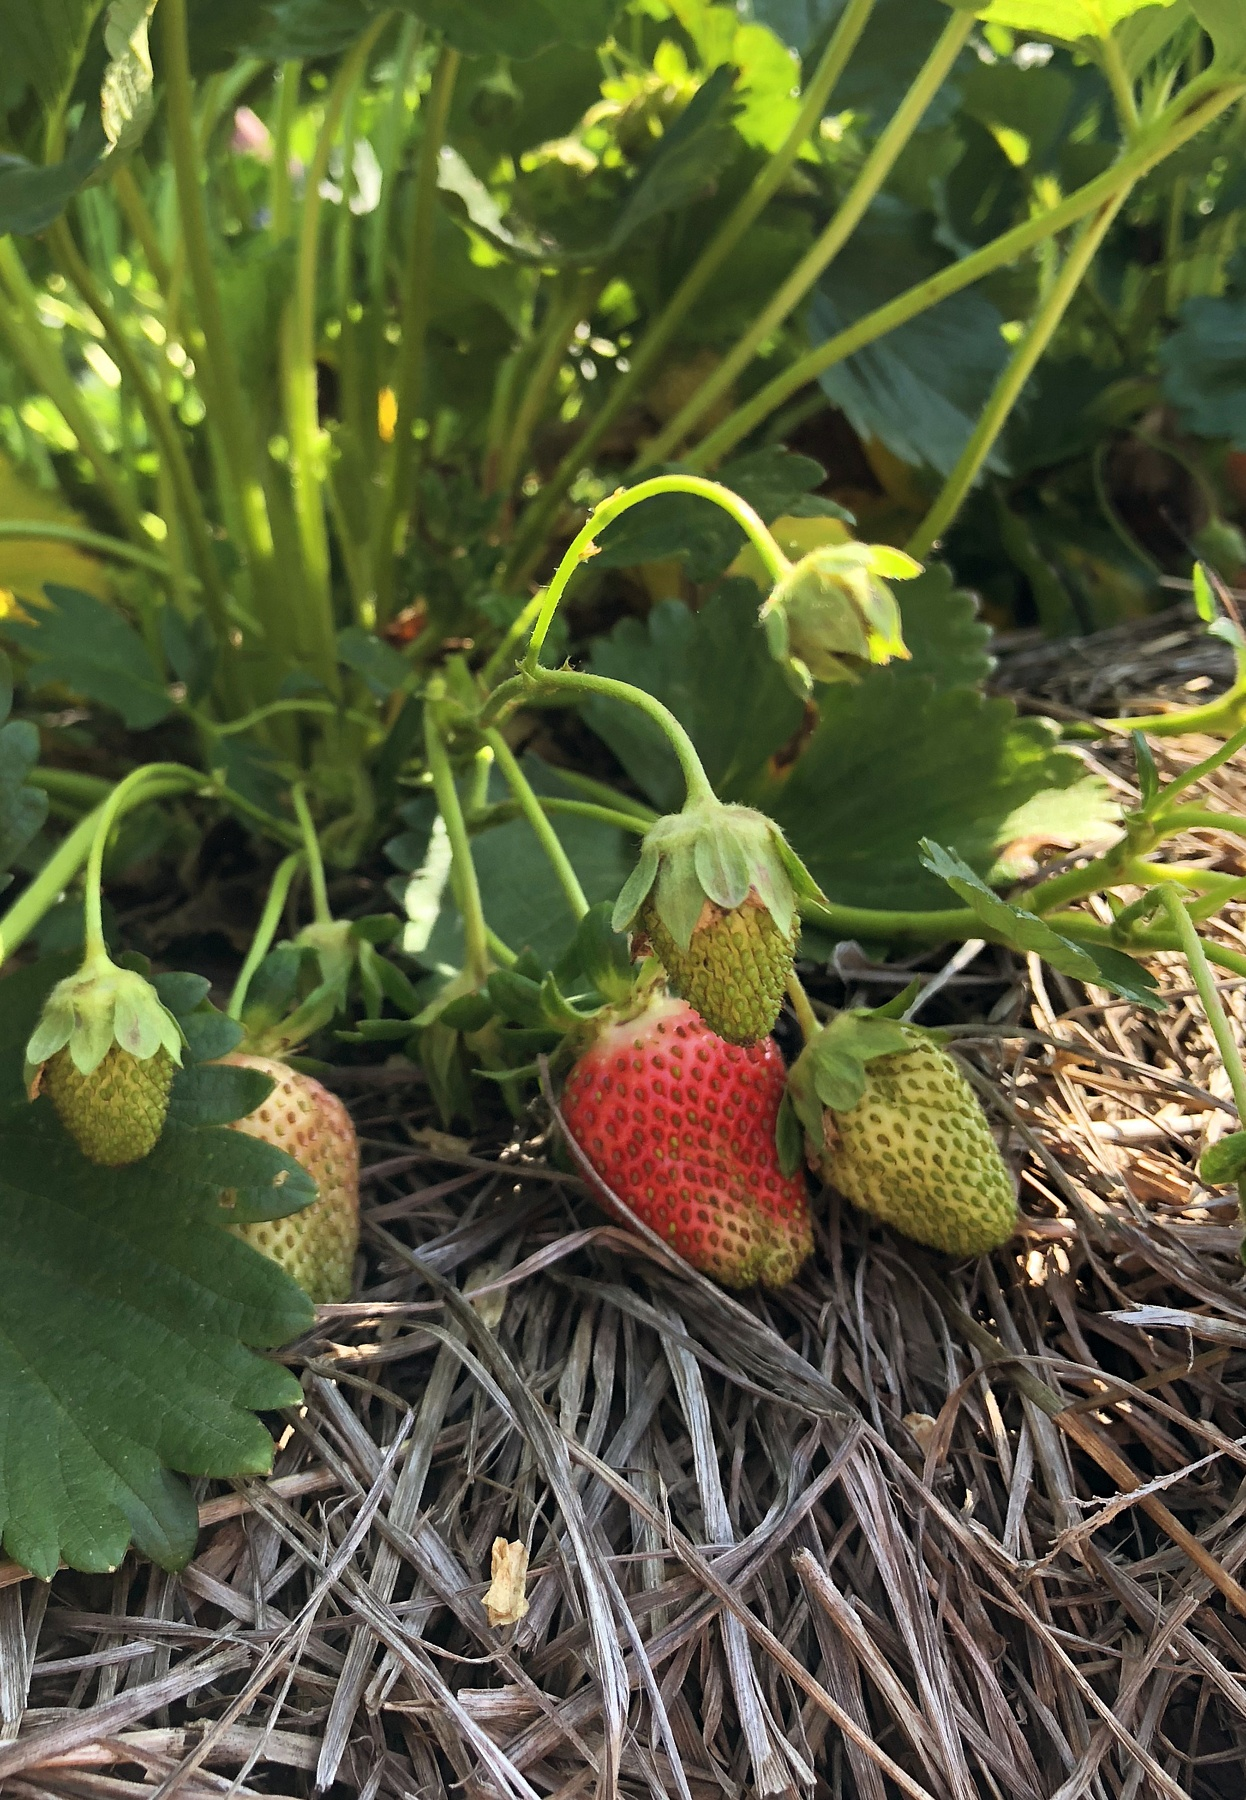ripe_strawberry: (553, 981, 827, 1287)
unripe_strawberry: (789, 1014, 1024, 1267), (172, 1037, 367, 1309), (632, 796, 811, 1055), (27, 966, 186, 1174)
